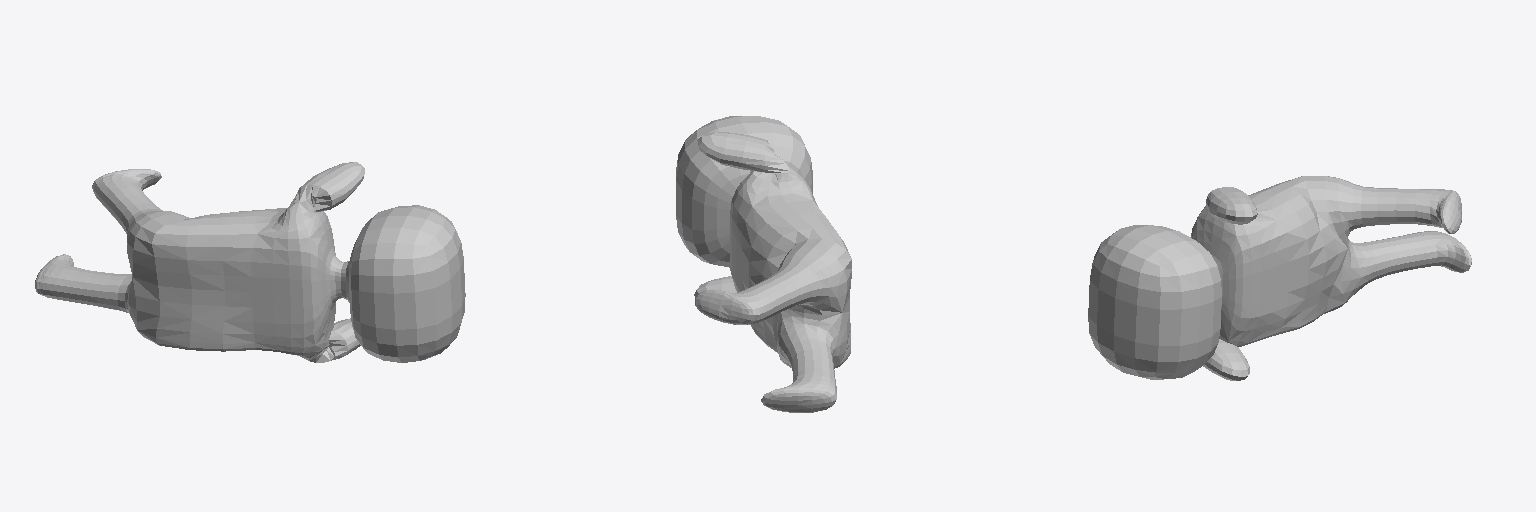
Rendered from antman_push_17.obj.
The picture shows the model from 3 angles: view 1: azimuth 30°, elevation 25°; view 2: azimuth 150°, elevation 25°; view 3: azimuth 270°, elevation 25°; orthographic projection.
Visible parts, largest first — view 1: Cube; view 2: Cube; view 3: Cube.
Boxes of the visible parts, x1=… form: Cube: x1=35, y1=162, x2=465, y2=362; Cube: x1=676, y1=116, x2=851, y2=412; Cube: x1=1088, y1=176, x2=1471, y2=380.
Size of the model in its own units: 1.42 by 0.8339 by 1.63.